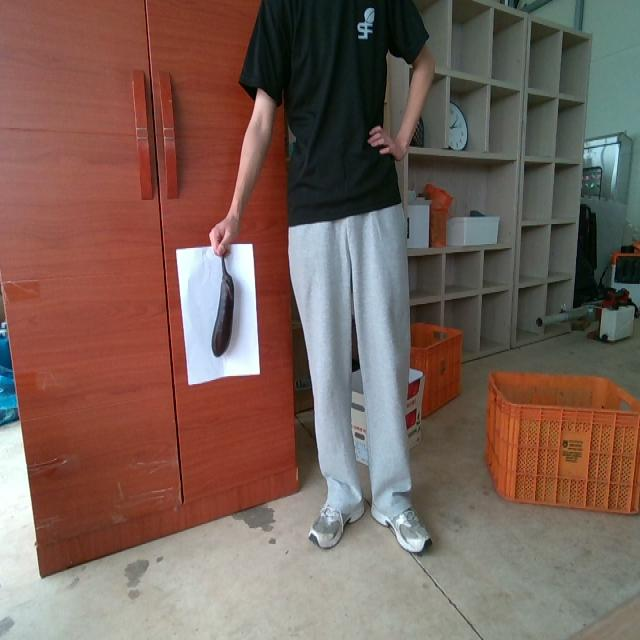Egg plant: (211, 256, 233, 356)
